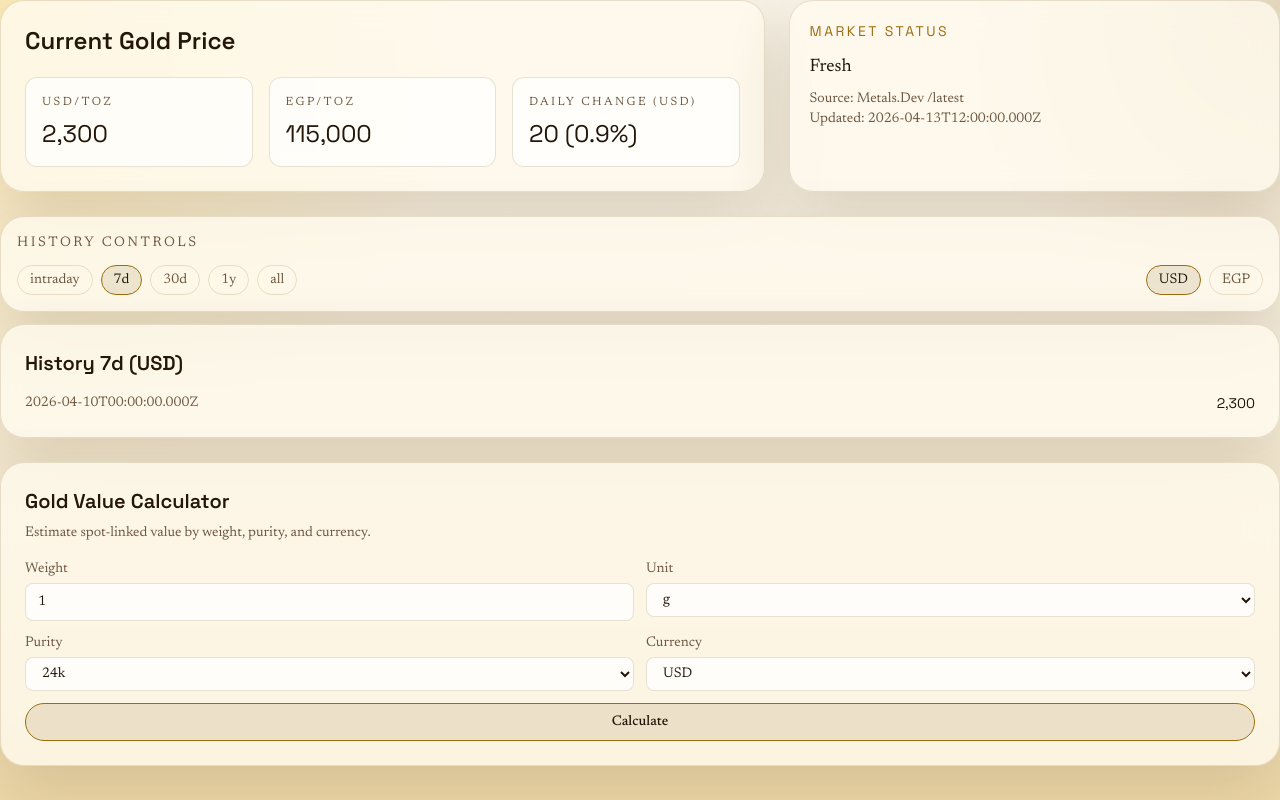
Test: history chart interactions › switches range and currency and re-renders history payload
Check: the heading "History 7d (USD)" is shown, box left=25, top=350, right=183, bottom=376
Click the button "EGP". click: click(1236, 280)
box: left=1209, top=265, right=1263, bottom=295
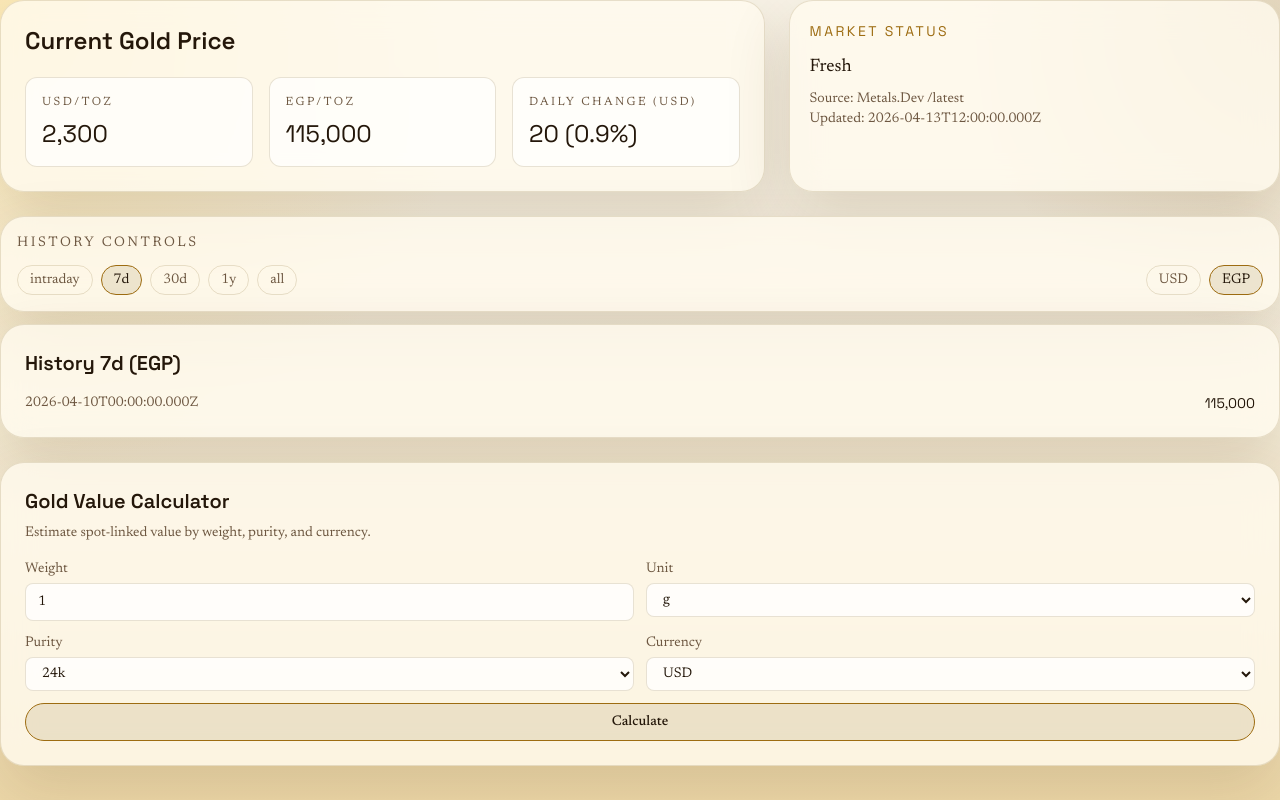
Check: the text "115,000" below "EGP/toz" is shown, box left=286, top=118, right=372, bottom=149
Check: the heading "History 7d (EGP)" is shown, box left=25, top=350, right=181, bottom=376
